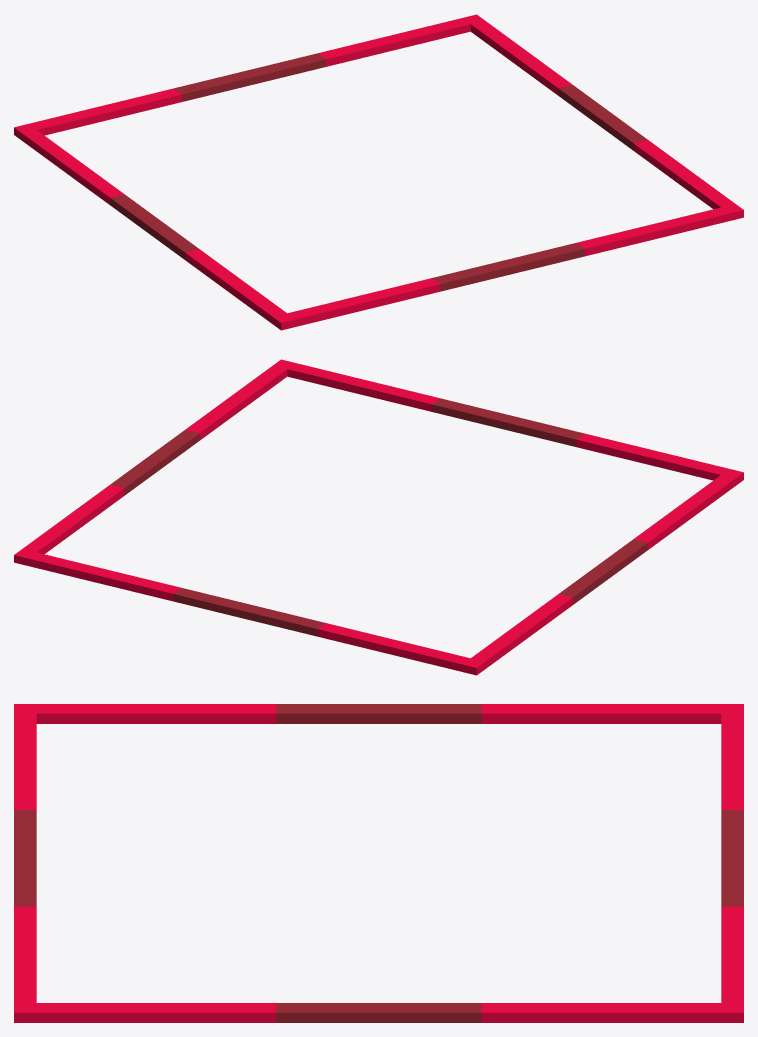
The model's file is towerSlice5.obj.
3 renders of one model, top to bottom at view 1: azimuth 30°, elevation 25°; view 2: azimuth 150°, elevation 25°; view 3: azimuth 270°, elevation 25°, orthographic. The views are drawn at different scales.
Size of the model in its own units: 6.4 by 0.1 by 6.4.
1 material, 1 textured.
